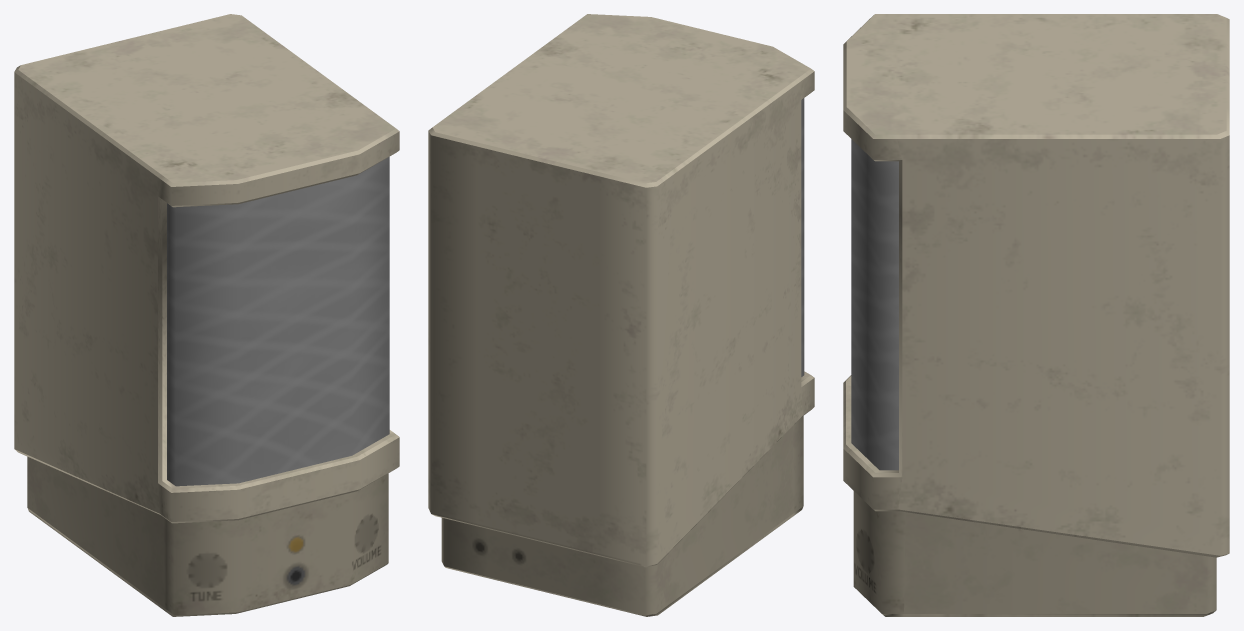
Rendered from Speaker.fbx.
3 renders of one model, left to right at view 1: azimuth 30°, elevation 25°; view 2: azimuth 150°, elevation 25°; view 3: azimuth 270°, elevation 25°, orthographic. The views are drawn at different scales.
Parts seen in each view (by area): view 1: Speaker; view 2: Speaker; view 3: Speaker.
Part boxes in pixels (<box>): Speaker: <box>14,14,399,616</box>; Speaker: <box>428,14,814,616</box>; Speaker: <box>843,14,1229,616</box>.
Size of the model in its own units: 8.18 by 15 by 10.84.
